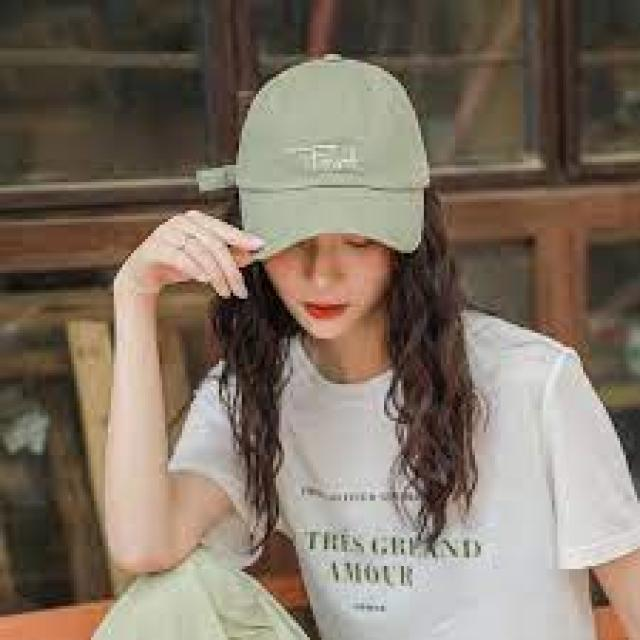cap: (199, 24, 462, 292)
